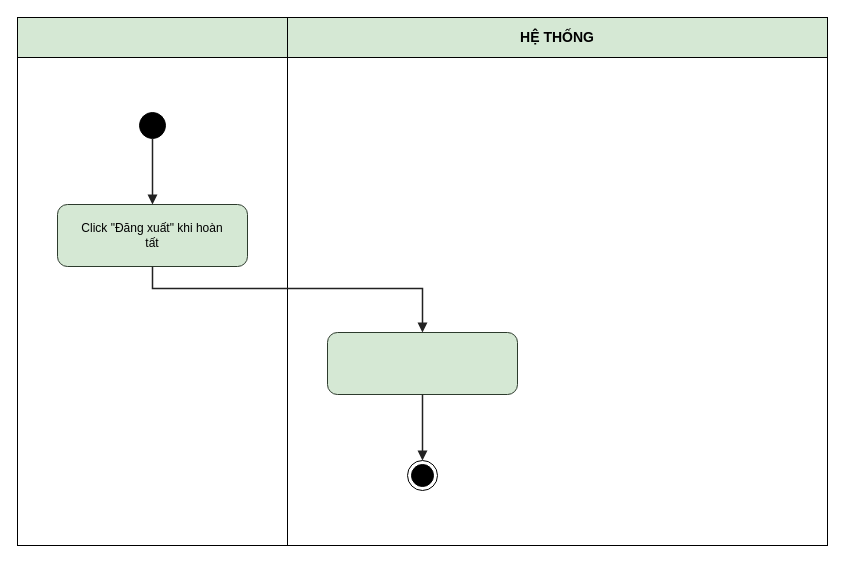
Image size: 845x563. Some labels were removed from this diagram. The shapes that lost their labels are listed below. From the top down, each one's box as (x1, y1, x2, y2) in pixels, then its label:
(16, 16, 288, 58): QUẢN TRỊ VIÊN
(326, 332, 518, 394): Hủy Session, quay về trang đăng nhập
